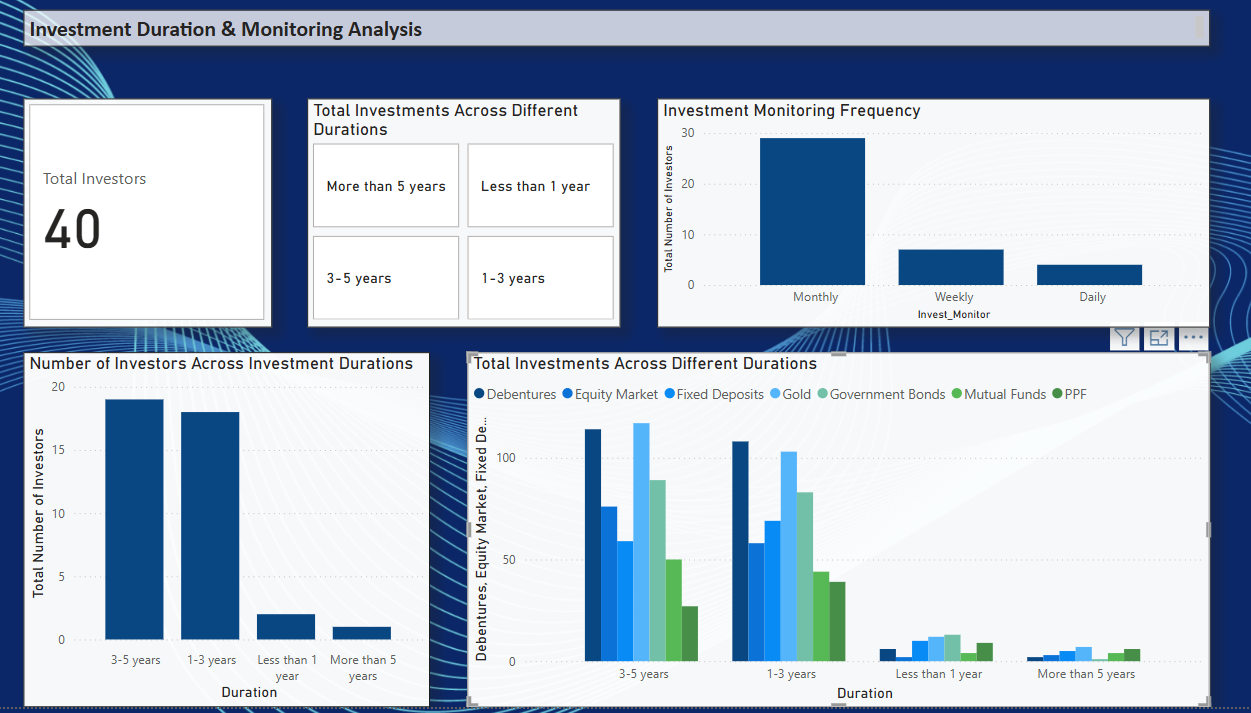

Layout of this report page (visuals, bound fields, positions):
{"tool":"powerbi","page":{"name":"Task 4","canvas":[1280,720],"ordinal":3},"visuals":[{"type":"clusteredColumnChart","title":"Number of Investors Across Investment Durations","fields":{"Category":["Data_set 2.Duration"],"Y":["Data_set 2.Total_Investors_By_Duration"]},"box":[56.3,373.2,397.9,347.2],"z":0},{"type":"clusteredColumnChart","title":"Total Investments Across Different Durations","fields":{"Category":["Data_set 2.Duration"],"Y":["Sum(Data_set 2.Debentures)","Sum(Data_set 2.Equity_Market)","Sum(Data_set 2.Fixed_Deposits)","Sum(Data_set 2.Gold)","Sum(Data_set 2.Government_Bonds)","Sum(Data_set 2.Mutual_Funds)","Sum(Data_set 2.PPF)"]},"box":[489.9,373.2,727.3,347.2],"z":1000},{"type":"advancedSlicerVisual","title":"Total Investments Across Different Durations","fields":{"Values":["Data_set 2.Duration"]},"box":[333.4,124.9,306,223.7],"z":2000},{"type":"cardVisual","fields":{"Data":["Data_set 2.Total_Investors_By_Duration"]},"box":[56.3,124.9,242.9,223.7],"z":3000},{"type":"clusteredColumnChart","title":"Investment Monitoring Frequency","fields":{"Category":["Data_set 2.Invest_Monitor"],"Y":["Data_set 2.Total_Investors_By_Monitoring"]},"box":[676.5,124.9,540.7,223.7],"z":4000},{"type":"textbox","box":[56.3,38.4,1160.9,35.7],"z":5000}]}

Visuals, with their boxes in screenshot pixels (x1, y1, x2, y2), scaled from the page's 1280x720 canvas onto the 1251x713 screenshot:
"Number of Investors Across Investment Durations" clusteredColumnChart: 55,370,444,712
"Total Investments Across Different Durations" clusteredColumnChart: 479,370,1190,712
"Total Investments Across Different Durations" advancedSlicerVisual: 326,124,625,345
cardVisual - Data_set 2.Total_Investors_By_Duration: 55,124,292,345
"Investment Monitoring Frequency" clusteredColumnChart: 661,124,1190,345
textbox: 55,38,1190,73
